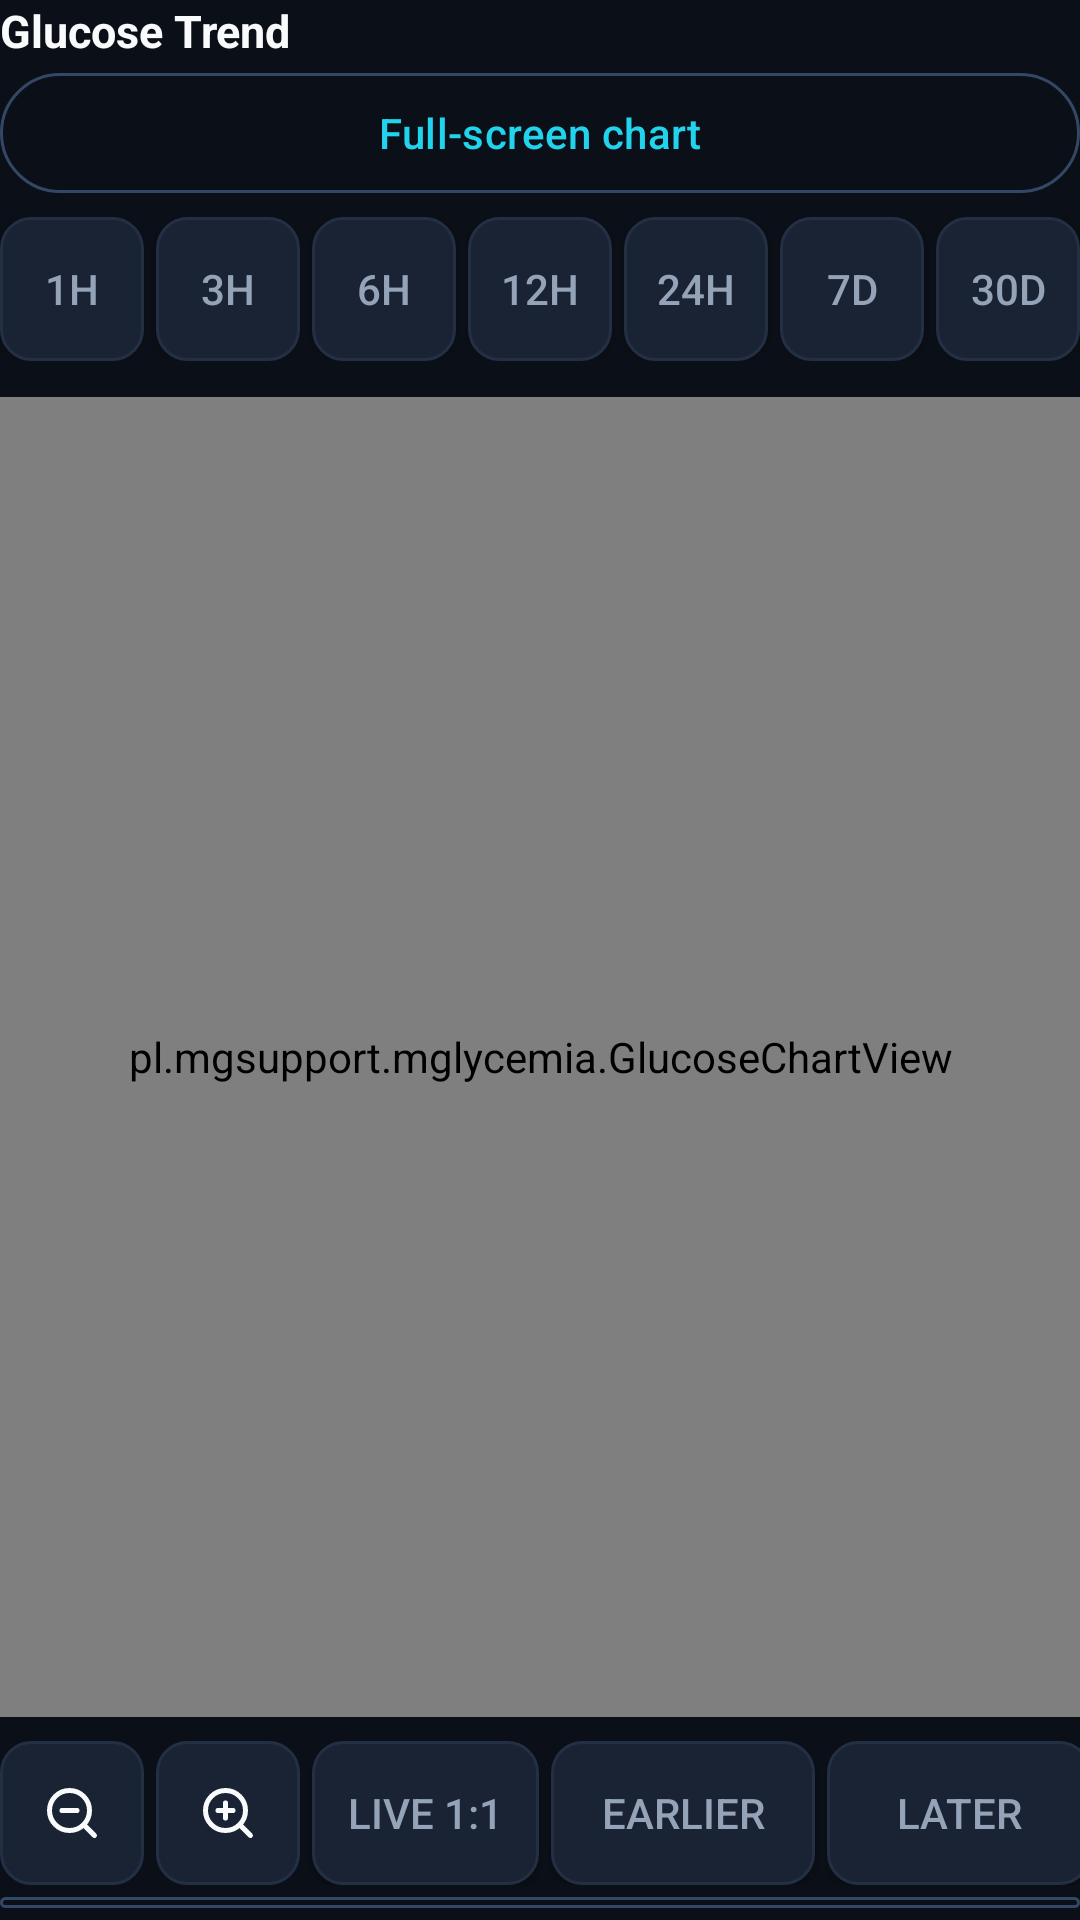

Icons on this 1080px x 1920px Android screen, each with the point to tap as point (x, y):
Zoom in: point (228, 1813)
Zoom out: point (72, 1813)
